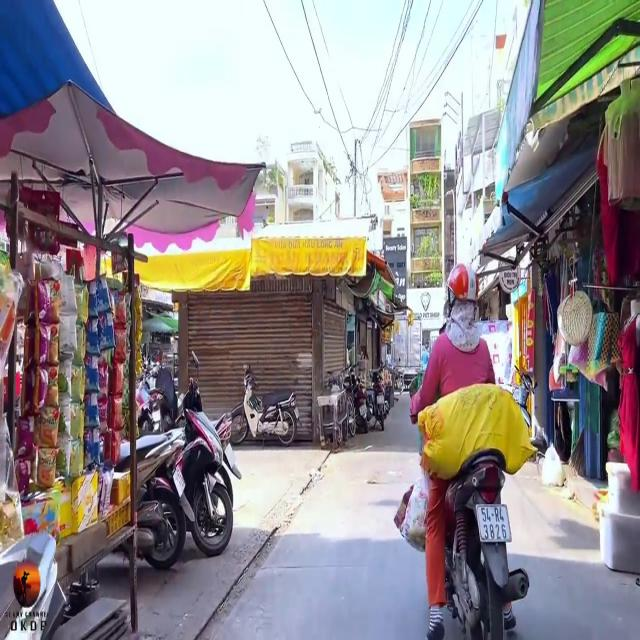bien_trang: (480, 508, 509, 540)
